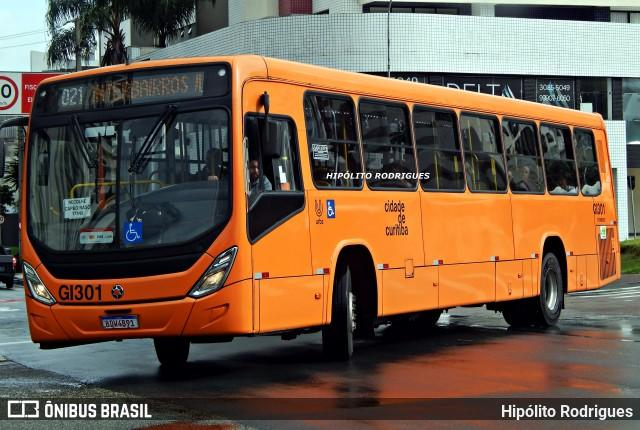INTERBAIRROS II: (87, 70, 208, 109)
